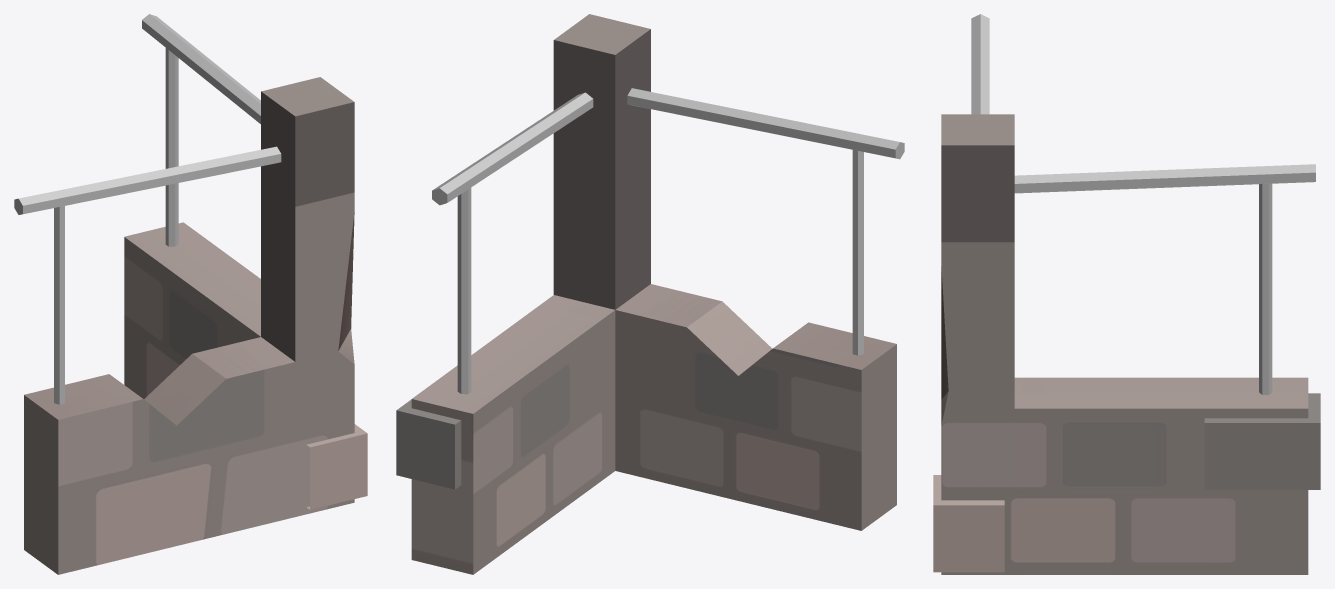
The model's file is SM_SmallWall_01.fbx.
The picture shows the model from 3 angles, left to right: view 1: azimuth 30°, elevation 25°; view 2: azimuth 150°, elevation 25°; view 3: azimuth 270°, elevation 25°; orthographic projection. The views are drawn at different scales.
Parts seen in each view (by area): view 1: SM_SmallWall_01; view 2: SM_SmallWall_01; view 3: SM_SmallWall_01.
Boxes of the visible parts, x1,y1,x2,y2 form: SM_SmallWall_01: [14, 14, 367, 574]; SM_SmallWall_01: [396, 14, 904, 574]; SM_SmallWall_01: [933, 14, 1320, 574].
Size of the model in its own units: 1.1 by 1.29 by 1.06.
